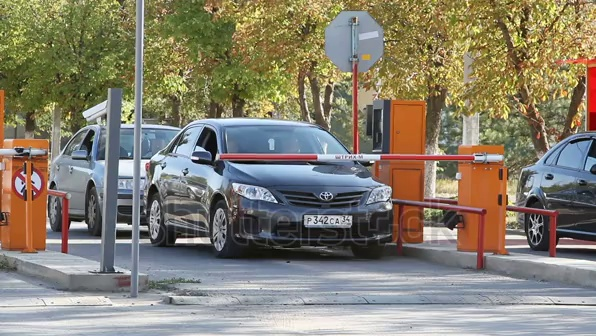licenseplate: (295, 213, 358, 234)
